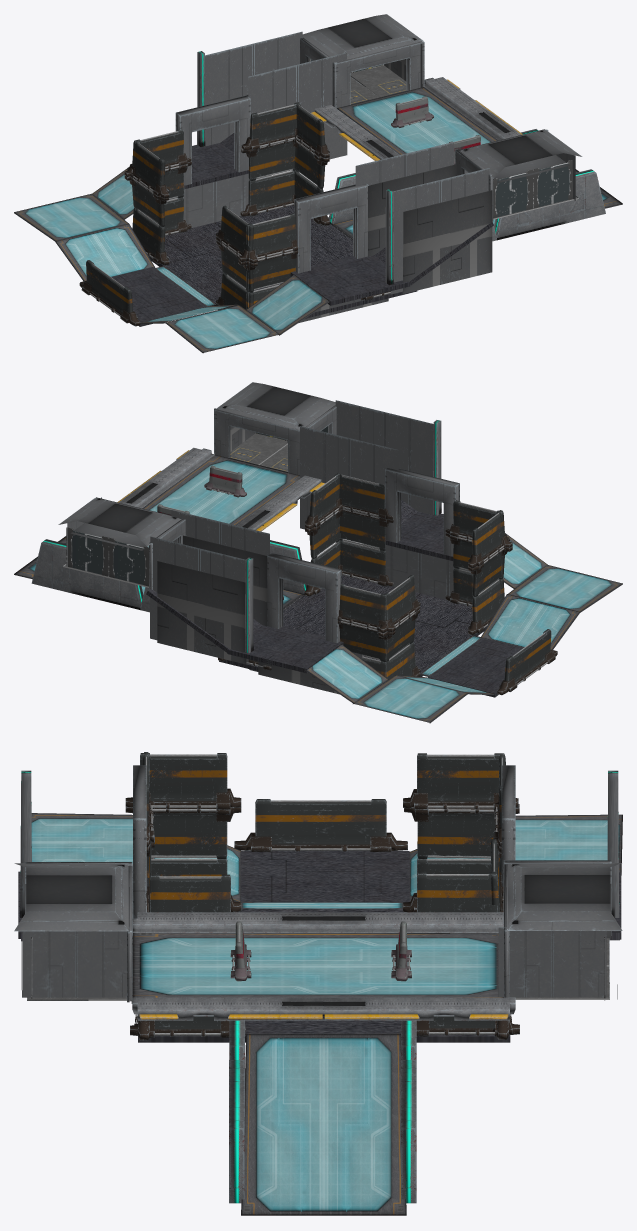
The model's file is AbeStage2_3.fbx.
3 views of the same model, one above another, from view 1: azimuth 30°, elevation 25°; view 2: azimuth 150°, elevation 25°; view 3: azimuth 270°, elevation 25° (orthographic). The views are drawn at different scales.
Visible parts, largest first — view 1: Spaceship_room_wall1_mdl__4_, Docking_Floors_mdl__13_, shipboard_mdl, Spaceship_room_wall1_mdl__7_, Spaceship_room_wall1_mdl__2_, Spaceship_room_wall1_mdl__6_, Spaceship_room_ceiling_mdl__1_, Docking_Floors_mdl__6_, Spaceship_shipboard_mdl__6_, Spaceship_room_ceiling_mdl__2_, Spaceship_shipboard_mdl__8_, Spaceship_shipboard_mdl__3_ (+42 smaller); view 2: Spaceship_room_wall1_mdl__7_, Docking_Floors_mdl__13_, shipboard_mdl, Spaceship_room_wall1_mdl__4_, Spaceship_room_wall1_mdl__2_, Spaceship_room_wall1_mdl__6_, Spaceship_room_ceiling_mdl__2_, spaceship_shipboard_wall_mdl_3, Spaceship_shipboard_mdl__1_, Spaceship_room_ceiling_mdl__1_, Spaceship_roomenter_mdl__12_, Spaceship_shipboard_mdl__8_ (+40 smaller); view 3: Spaceship_shipboard_mdl__5_, shipboard_mdl, Docking_Floors_mdl__14_, Spaceship_docking_side_mdl, Spaceship_docking_side_mdl_1, Barricade_mdl, Spaceship_room_ceiling_mdl__1_, Spaceship_room_ceiling_mdl__2_, Spaceship_room_wall2_mdl__1_, Spaceship_room_wall2_mdl__2_, Spaceship_shipboard_mdl__3_, Barricade_mdl__20_ (+26 smaller).
Boxes of the visible parts, x1,y1,x2,y2 form: Spaceship_room_wall1_mdl__4_: [390, 168, 492, 294]; Docking_Floors_mdl__13_: [149, 205, 417, 318]; shipboard_mdl: [337, 87, 497, 154]; Spaceship_room_wall1_mdl__7_: [204, 31, 302, 146]; Spaceship_room_wall1_mdl__2_: [355, 142, 455, 256]; Spaceship_room_wall1_mdl__6_: [246, 52, 347, 159]; Spaceship_room_ceiling_mdl__1_: [459, 130, 582, 182]; Docking_Floors_mdl__6_: [290, 255, 410, 305]; Spaceship_shipboard_mdl__6_: [55, 224, 155, 281]; Spaceship_room_ceiling_mdl__2_: [302, 14, 423, 62]; Spaceship_shipboard_mdl__8_: [14, 193, 128, 241]; Spaceship_shipboard_mdl__3_: [166, 305, 278, 353]; Spaceship_room_wall1_mdl__7_: [150, 536, 248, 664]; Docking_Floors_mdl__13_: [219, 575, 487, 676]; shipboard_mdl: [142, 455, 300, 547]; Spaceship_room_wall1_mdl__4_: [335, 400, 433, 515]; Spaceship_room_wall1_mdl__2_: [300, 426, 398, 541]; Spaceship_room_wall1_mdl__6_: [171, 510, 269, 626]; Spaceship_room_ceiling_mdl__2_: [58, 498, 182, 550]; spaceship_shipboard_wall_mdl_3: [31, 539, 143, 610]; Spaceship_shipboard_mdl__1_: [480, 594, 580, 649]; Spaceship_room_ceiling_mdl__1_: [216, 382, 335, 429]; Spaceship_roomenter_mdl__12_: [267, 554, 339, 643]; Spaceship_shipboard_mdl__8_: [353, 675, 468, 723]; Spaceship_shipboard_mdl__5_: [241, 1033, 406, 1215]; shipboard_mdl: [131, 933, 503, 1003]; Docking_Floors_mdl__14_: [240, 851, 409, 902]; Spaceship_docking_side_mdl: [132, 912, 323, 1020]; Spaceship_docking_side_mdl_1: [323, 912, 515, 1020]; Barricade_mdl: [234, 799, 407, 851]; Spaceship_room_ceiling_mdl__1_: [14, 863, 128, 931]; Spaceship_room_ceiling_mdl__2_: [508, 863, 622, 938]; Spaceship_room_wall2_mdl__1_: [22, 927, 129, 997]; Spaceship_room_wall2_mdl__2_: [498, 927, 606, 997]; Spaceship_shipboard_mdl__3_: [31, 813, 151, 863]; Barricade_mdl__20_: [403, 753, 518, 810].
Size of the model in its own units: 3316 by 936 by 2279.
